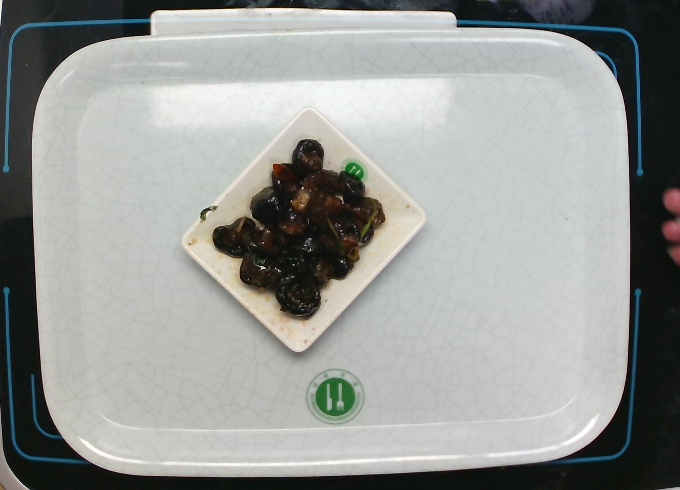WCQzf-Bai_Se_Si_Fang_Die: (177, 103, 430, 357)
